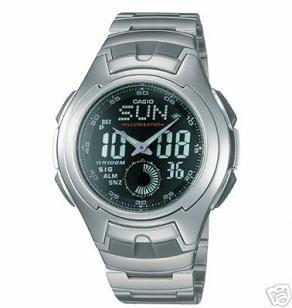watch: (53, 58, 237, 250)
